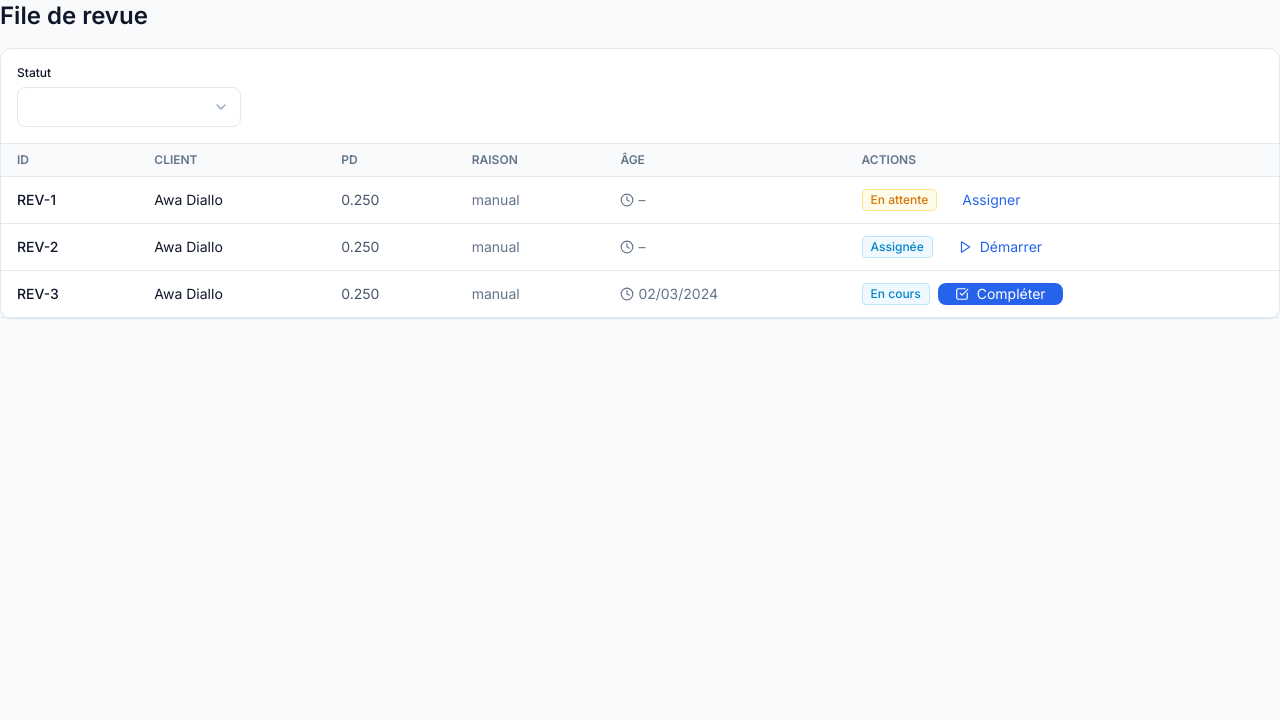
Test case: ReviewQueuePage › completes a review from the modal
This screenshot has width=1280, height=720.
Click the button "Compléter": (1000, 294) [938,283,1063,305]
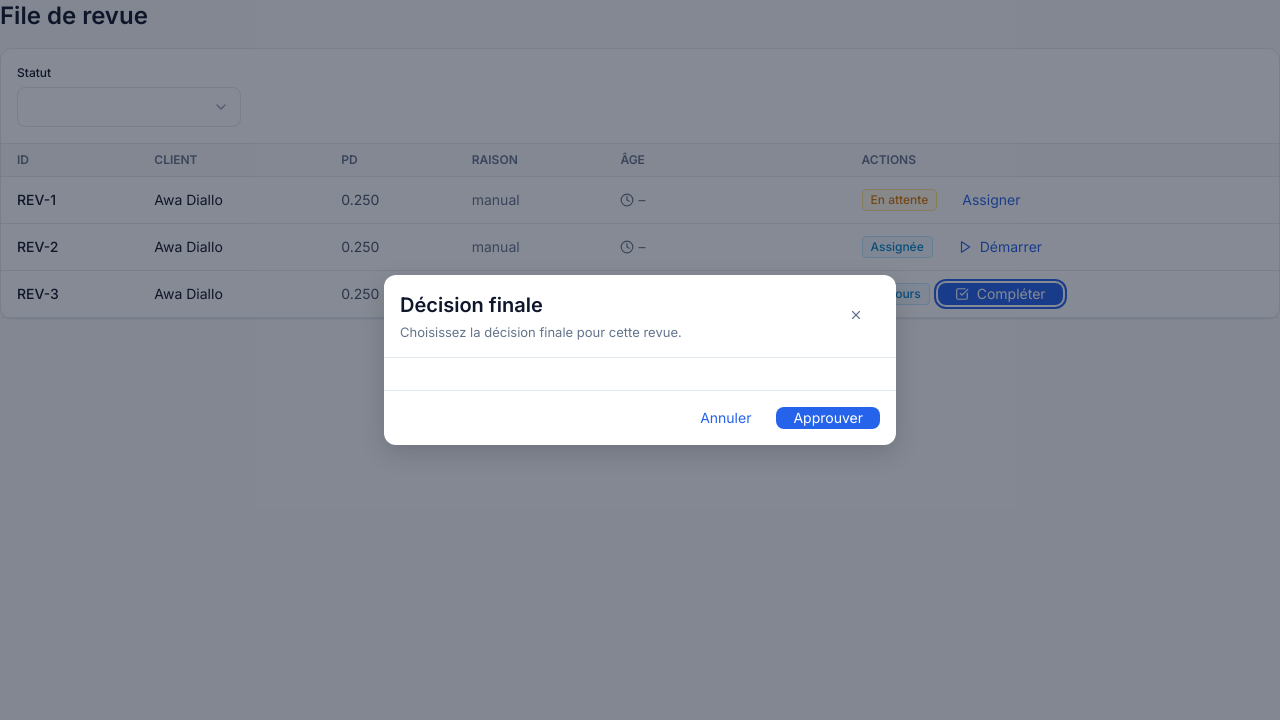
Now the heading "Décision finale" is shown, box [400,293,543,317]
Click the button "Approuver": (828, 418) [776,407,880,429]
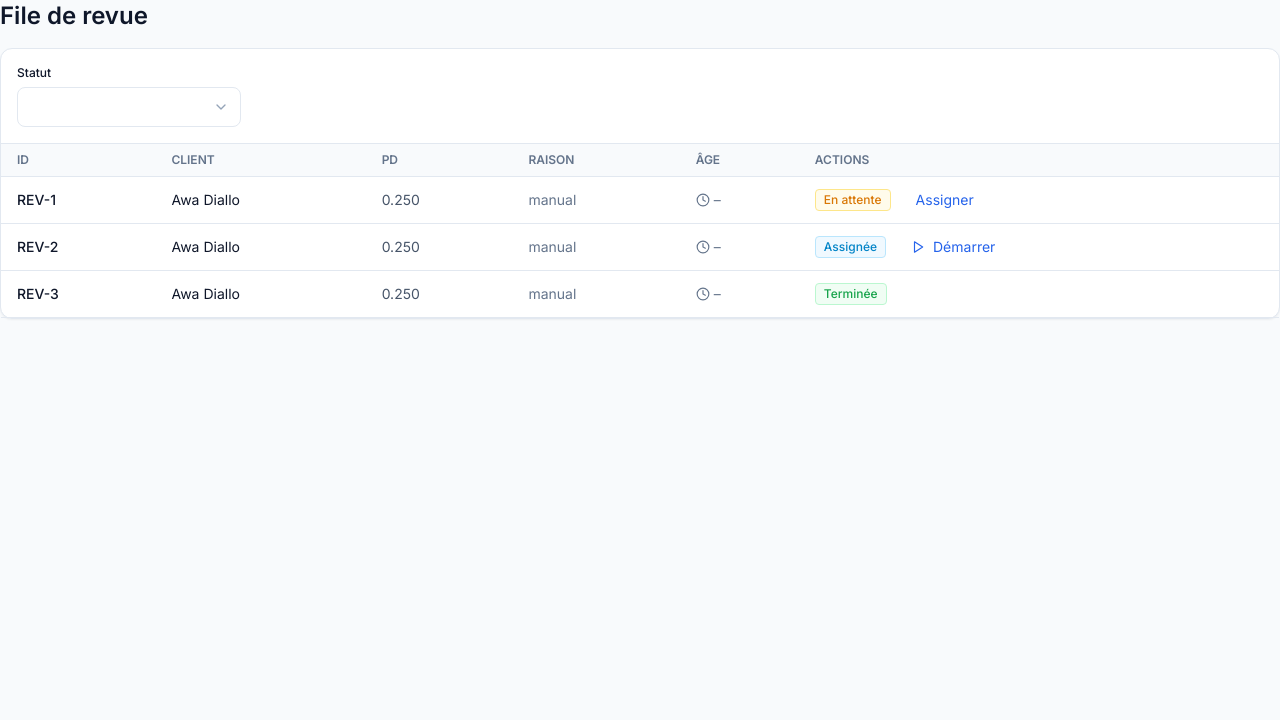
Now the heading "Décision finale" is gone
